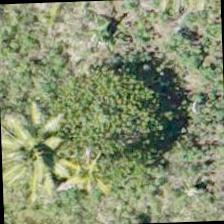Kelapa_Sawit: (40, 122, 132, 214), (0, 99, 81, 193)
